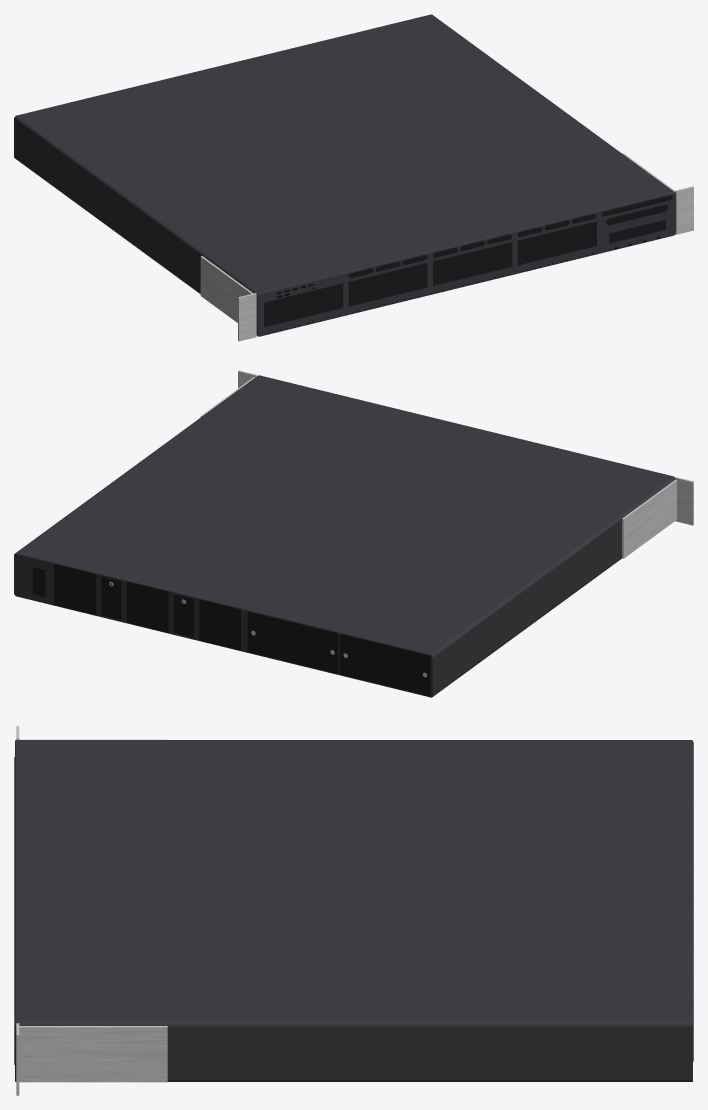
Rendered from WS-C3650-48PD.far.glb.
3 views of the same model, one above another, from view 1: azimuth 30°, elevation 25°; view 2: azimuth 150°, elevation 25°; view 3: azimuth 270°, elevation 25° (orthographic). The views are drawn at different scales.
Parts seen in each view (by area): view 1: Shell_far; view 2: Shell_far; view 3: Shell_far.
Part boxes in pixels (x1,y1,x2,y2): Shell_far: [14, 14, 693, 341]; Shell_far: [14, 370, 693, 697]; Shell_far: [14, 726, 693, 1095].
Size of the model in its own units: 0.4826 by 0.044 by 0.4488.
Materials: 4 (3 with a texture image).
